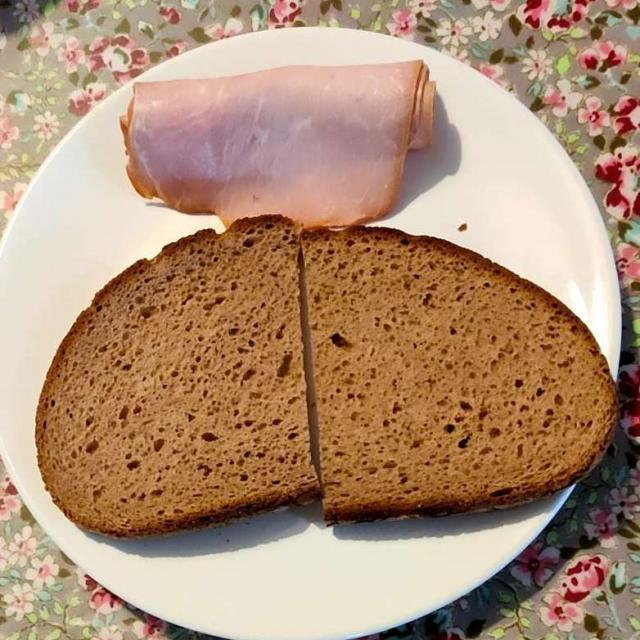bread: (39, 225, 608, 528)
ham: (126, 61, 433, 222)
